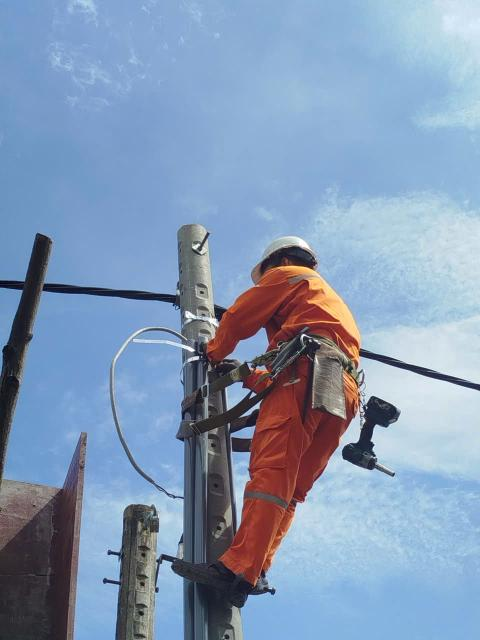gloves: (212, 352, 258, 383)
harness: (261, 322, 387, 393)
helmet: (238, 224, 334, 285)
shoes: (164, 547, 260, 613)
